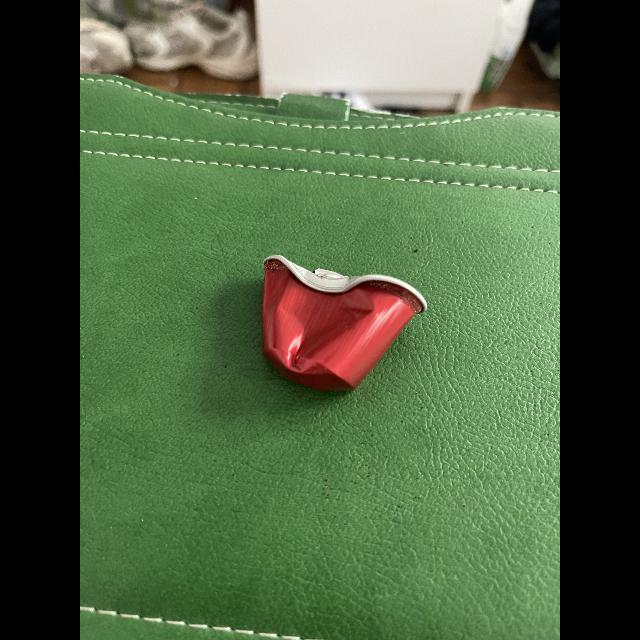damaged_capsule: (250, 247, 440, 408)
